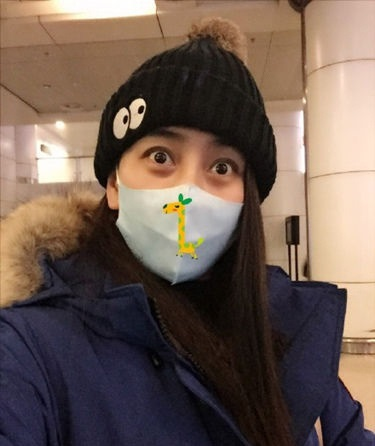face_mask: (119, 115, 245, 281)
